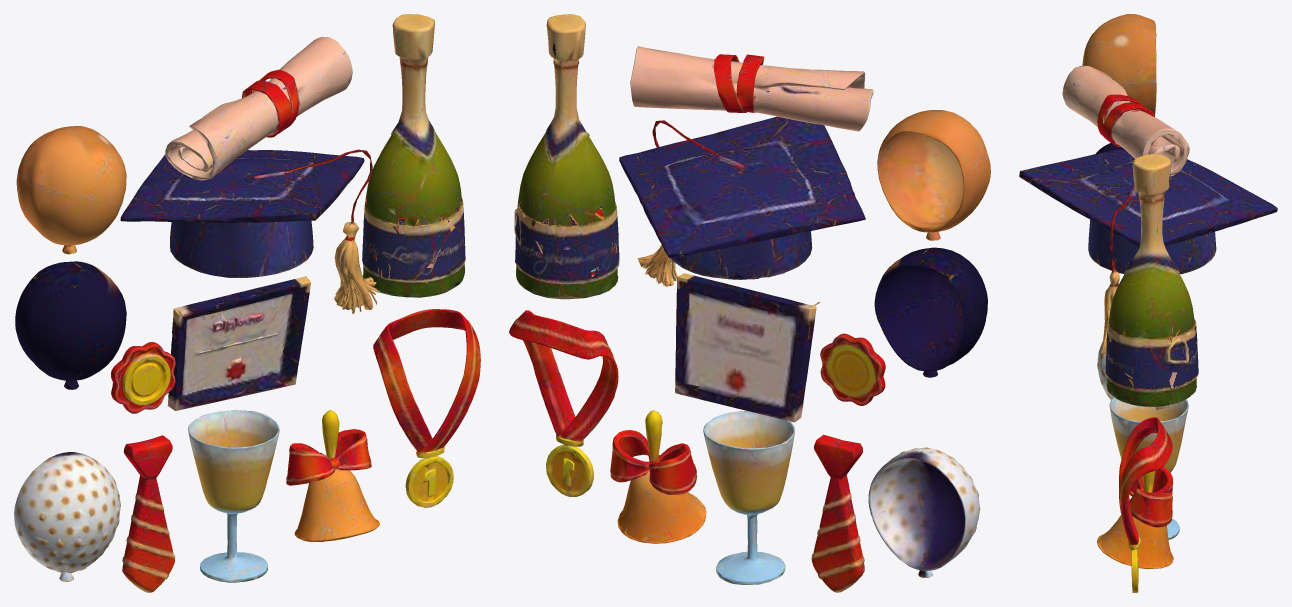
3 renders of one model, left to right at view 1: azimuth 30°, elevation 25°; view 2: azimuth 150°, elevation 25°; view 3: azimuth 270°, elevation 25°, orthographic. The views are drawn at different scales.
Parts seen in each view (by area): view 1: Mesh 5, Mesh 11, Mesh 8, Mesh 7, Mesh 1, Mesh 2, Mesh 3, Mesh 9, Mesh 12, Mesh 10, Mesh 6, Mesh 4; view 2: Mesh 5, Mesh 11, Mesh 8, Mesh 7, Mesh 2, Mesh 1, Mesh 3, Mesh 9, Mesh 12, Mesh 10, Mesh 6, Mesh 4; view 3: Mesh 5, Mesh 11, Mesh 7, Mesh 2, Mesh 10, Mesh 12, Mesh 9, Mesh 3.
Part boxes in pixels (x1,y1,x2,y2): Mesh 5: [120, 149, 379, 313]; Mesh 11: [362, 14, 465, 297]; Mesh 8: [167, 276, 310, 410]; Mesh 7: [165, 36, 352, 180]; Mesh 1: [15, 261, 126, 389]; Mesh 2: [16, 126, 126, 254]; Mesh 3: [14, 452, 120, 581]; Mesh 9: [188, 410, 279, 582]; Mesh 12: [373, 309, 480, 507]; Mesh 10: [286, 410, 379, 541]; Mesh 6: [122, 435, 175, 592]; Mesh 4: [111, 342, 175, 413]; Mesh 5: [619, 116, 865, 286]; Mesh 11: [514, 14, 619, 299]; Mesh 8: [675, 273, 819, 422]; Mesh 7: [630, 46, 873, 131]; Mesh 2: [877, 110, 990, 240]; Mesh 1: [874, 247, 987, 377]; Mesh 3: [868, 447, 980, 577]; Mesh 9: [703, 411, 794, 584]; Mesh 12: [509, 310, 618, 496]; Mesh 10: [610, 410, 706, 543]; Mesh 6: [811, 434, 864, 592]; Mesh 4: [820, 333, 885, 405]; Mesh 5: [1019, 148, 1277, 353]; Mesh 11: [1105, 153, 1198, 406]; Mesh 7: [1062, 65, 1189, 176]; Mesh 2: [1082, 14, 1156, 115]; Mesh 10: [1097, 466, 1173, 569]; Mesh 12: [1119, 417, 1172, 592]; Mesh 9: [1109, 397, 1188, 539]; Mesh 3: [1097, 340, 1113, 400].
Size of the model in its own units: 1.81 by 1.9 by 0.99.
12 materials, 12 textured.
